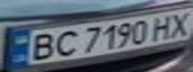0: (130, 17, 154, 45)
1: (100, 21, 121, 51)
7: (78, 25, 103, 54)
9: (115, 20, 136, 47)
B: (21, 30, 60, 62)
C: (48, 28, 81, 58)
H: (148, 12, 178, 41)
X: (163, 9, 193, 37)
